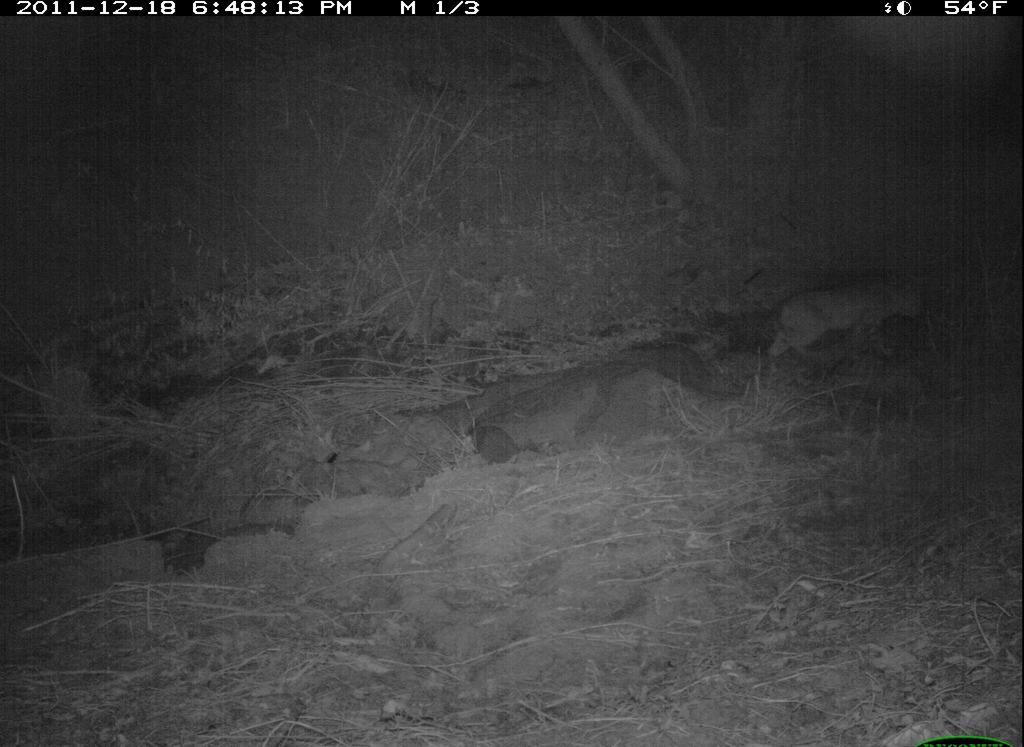bobcat: (760, 273, 933, 376)
